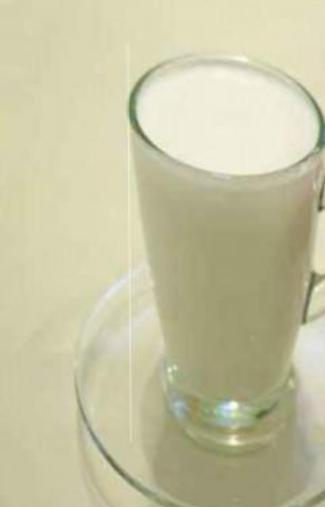produk_susu: (139, 60, 303, 441)
